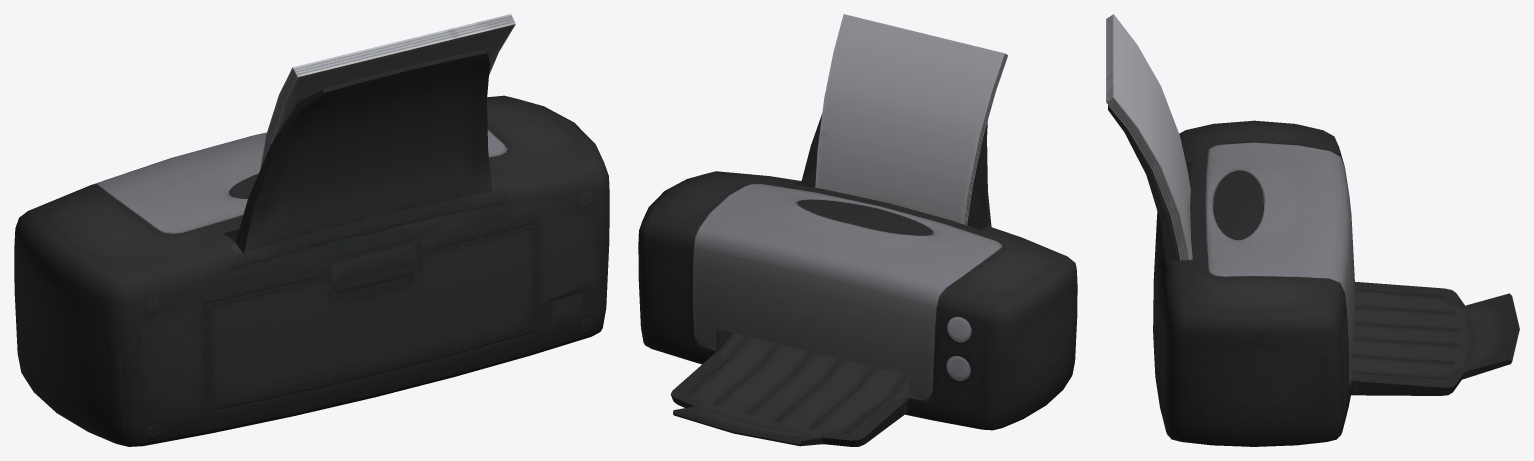
The model's file is OfficePrinter01.fbx.
3 views of the same model, side by side, from view 1: azimuth 30°, elevation 25°; view 2: azimuth 150°, elevation 25°; view 3: azimuth 270°, elevation 25° (orthographic). The views are drawn at different scales.
Parts seen in each view (by area): view 1: OfficePrinter01; view 2: OfficePrinter01; view 3: OfficePrinter01.
Part boxes in pixels (x1=…): OfficePrinter01: x1=14, y1=14, x2=609, y2=446; OfficePrinter01: x1=638, y1=14, x2=1077, y2=446; OfficePrinter01: x1=1106, y1=14, x2=1519, y2=446.
Size of the model in its own units: 0.8075 by 0.5475 by 0.6962.
1 material, 1 textured.
